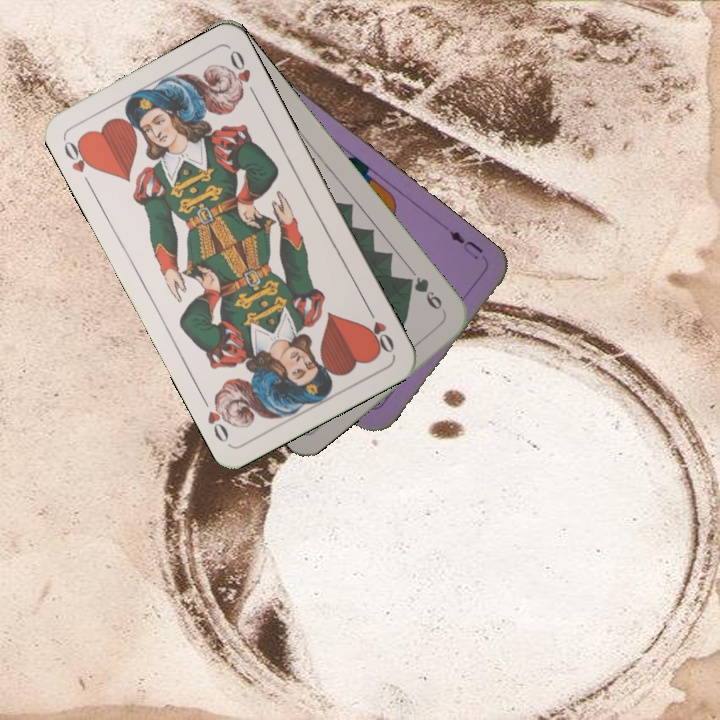EU: (445, 226, 486, 263)
G9: (401, 267, 449, 317)
HO: (59, 134, 98, 190), (362, 302, 397, 356)
